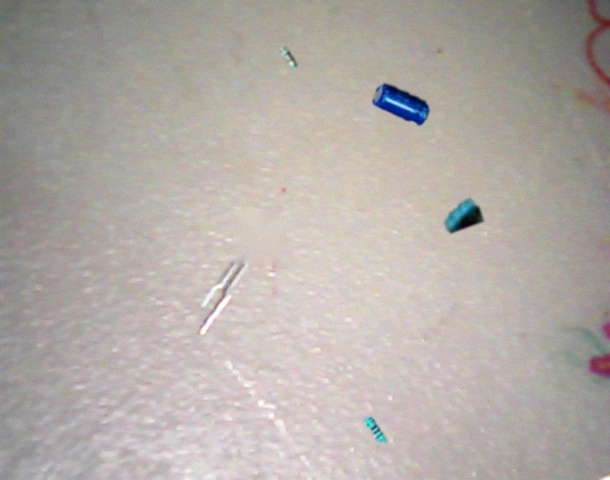capacitor: (372, 84, 430, 126), (444, 198, 484, 233)
resistor: (363, 415, 387, 446), (279, 46, 299, 70)
